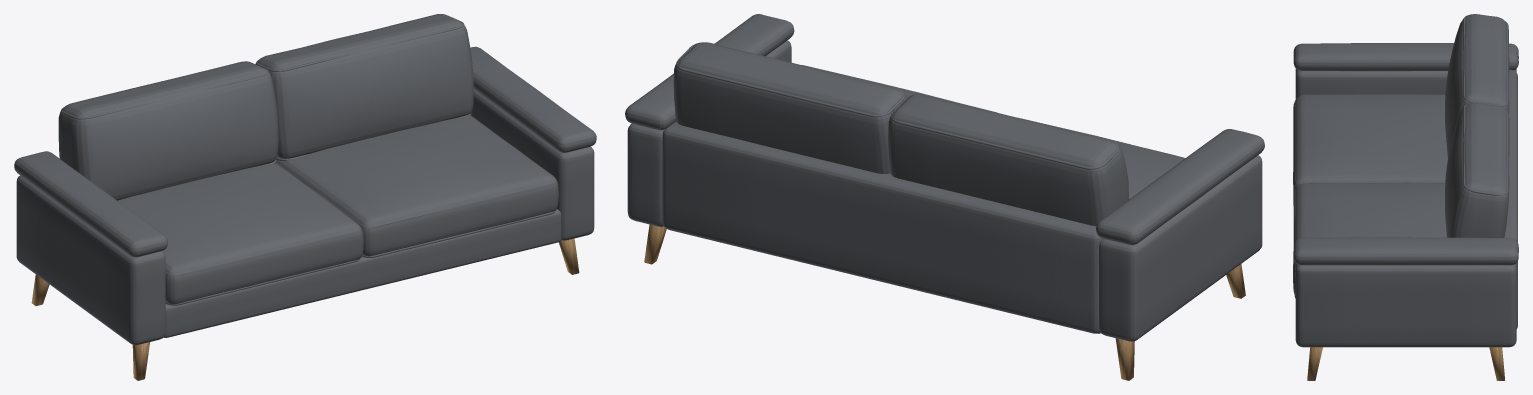
The model's file is block-arm-sofa.glb.
3 renders of one model, left to right at view 1: azimuth 30°, elevation 25°; view 2: azimuth 150°, elevation 25°; view 3: azimuth 270°, elevation 25°, orthographic. The views are drawn at different scales.
Parts seen in each view (by area): view 1: seat1, backc0, backc1, seat0, armL, base, armL_pad, armR, armR_pad, backpipe11, leg0, seatpipe10 (+3 smaller); view 2: backframe, backc0, backc1, armL, armL_pad, armR_pad, armR, seat0, backpipe11, backpipe01, leg2, leg3; view 3: armR, seat0, seat1, backc1, armR_pad, backc0, armL_pad, armL, backframe, backpipe11, backpipe01, leg3 (+1 smaller).
Boxes of the visible parts, bbox=[...] form: seat1: bbox=[276, 115, 558, 256]; backc0: bbox=[58, 61, 278, 200]; backc1: bbox=[255, 14, 473, 158]; seat0: bbox=[117, 163, 363, 304]; armL: bbox=[16, 175, 165, 345]; base: bbox=[164, 209, 561, 337]; armL_pad: bbox=[14, 151, 167, 257]; armR: bbox=[471, 89, 594, 240]; armR_pad: bbox=[470, 46, 596, 152]; backpipe11: bbox=[256, 17, 464, 71]; leg0: bbox=[132, 342, 150, 380]; seatpipe10: bbox=[361, 210, 555, 257]; backframe: bbox=[662, 121, 1102, 333]; backc0: bbox=[888, 94, 1129, 226]; backc1: bbox=[673, 42, 906, 173]; armL: bbox=[1099, 155, 1262, 341]; armL_pad: bbox=[1096, 129, 1264, 245]; armR_pad: bbox=[625, 14, 794, 130]; armR: bbox=[627, 40, 791, 226]; seat0: bbox=[1018, 117, 1185, 198]; backpipe11: bbox=[676, 42, 905, 117]; backpipe01: bbox=[890, 95, 1119, 169]; leg2: bbox=[1115, 338, 1134, 380]; leg3: bbox=[644, 224, 666, 264]; armR: bbox=[1295, 263, 1516, 347]; seat0: bbox=[1293, 94, 1447, 199]; seat1: bbox=[1293, 182, 1446, 296]; backc1: bbox=[1444, 102, 1509, 237]; armR_pad: bbox=[1293, 237, 1518, 265]; backc0: bbox=[1445, 14, 1509, 158]; armL_pad: bbox=[1293, 43, 1518, 71]; armL: bbox=[1295, 68, 1516, 98]; backframe: bbox=[1504, 69, 1517, 328]; backpipe11: bbox=[1463, 103, 1508, 195]; backpipe01: bbox=[1463, 15, 1508, 106]; leg3: bbox=[1489, 347, 1504, 380].
Bounding box in the file's own units: 2.11 × 0.8465 × 0.9479.
2 materials, 2 textured.
